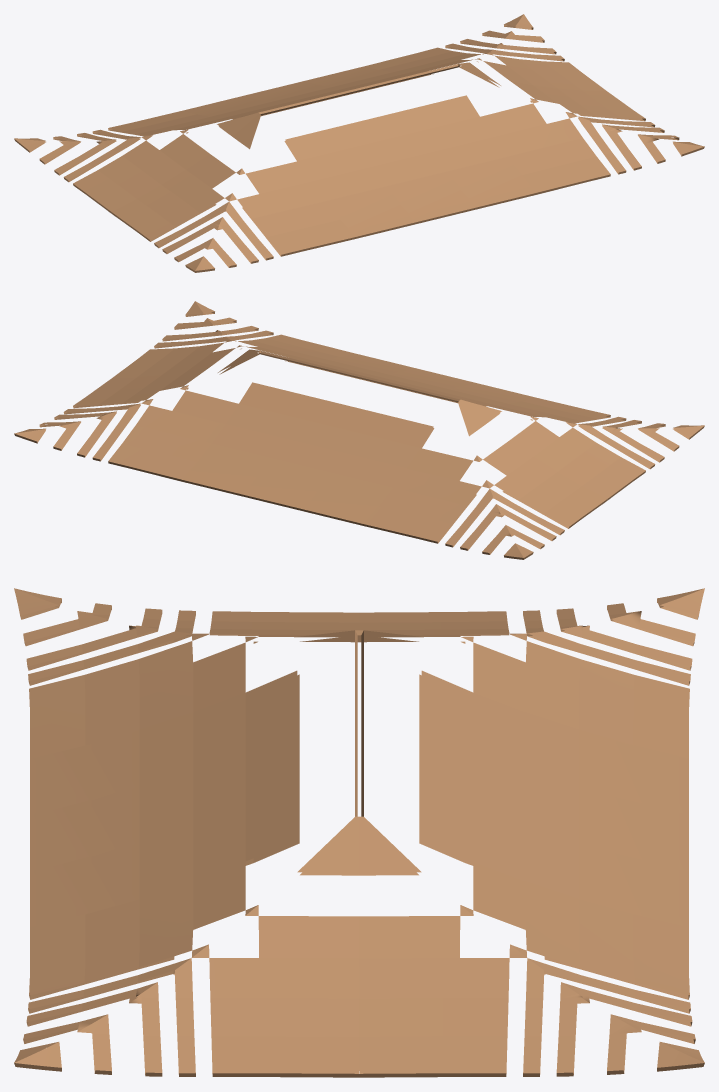
3 renders of one model, top to bottom at view 1: azimuth 30°, elevation 25°; view 2: azimuth 150°, elevation 25°; view 3: azimuth 270°, elevation 25°, orthographic. The views are drawn at different scales.
Parts seen in each view (by area): view 1: Layer_2; view 2: Layer_2; view 3: Layer_2.
Part boxes in pixels (x1,y1,x2,y2): Layer_2: (14, 14, 704, 272); Layer_2: (14, 301, 704, 559); Layer_2: (14, 588, 704, 1077).
Bounding box in the file's own units: 10 × 1.22 × 6.15.
